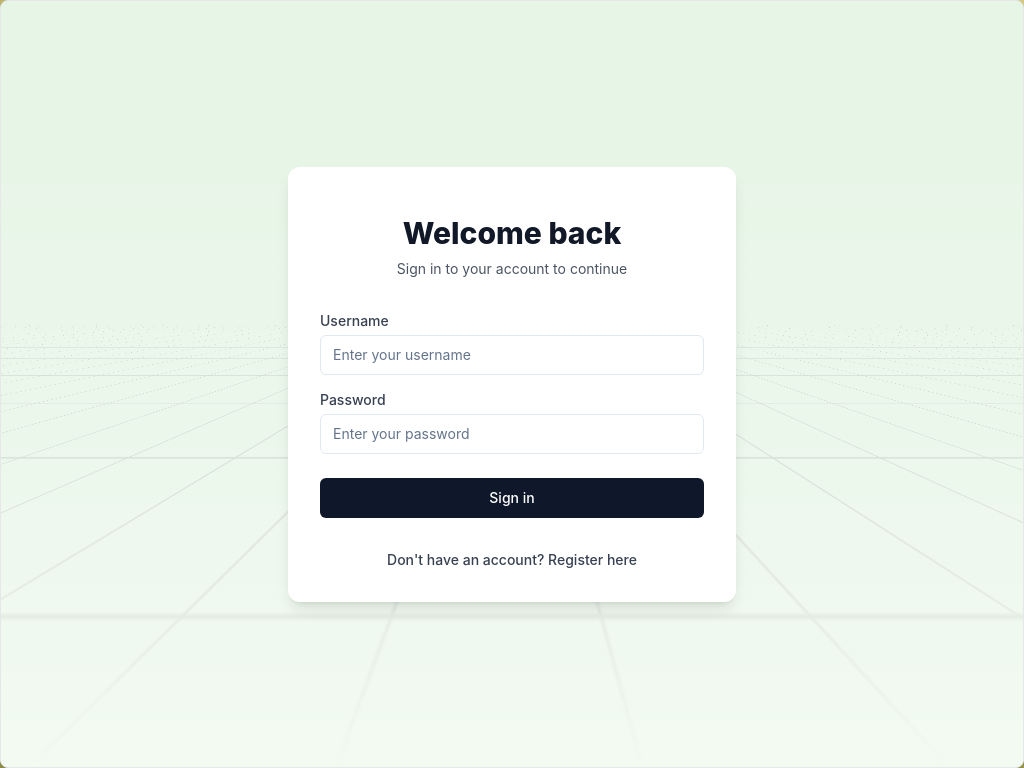
Test: LoginPage › displays validation errors when fields are empty and form is submitted
Click the button "Sign in".
click(512, 498)  # box top-left (320, 478), bottom-right (704, 518)
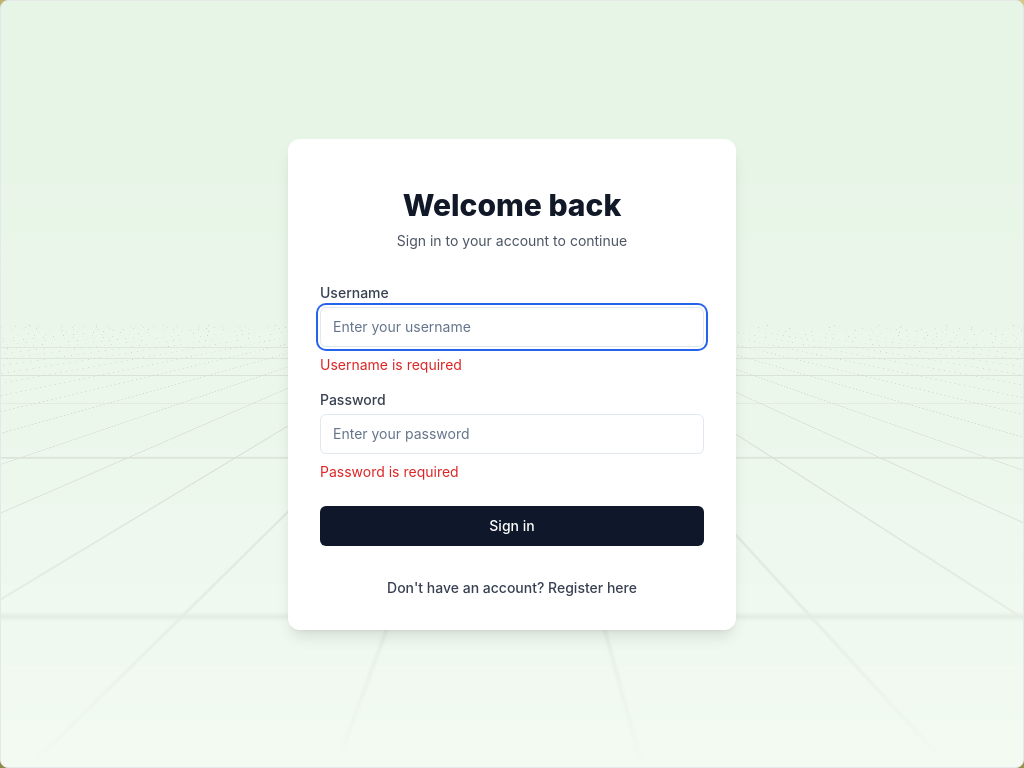
Now the text "Username is required" is shown, box top-left (320, 356), bottom-right (462, 372)
Now the text "Password is required" is shown, box top-left (320, 462), bottom-right (459, 480)
